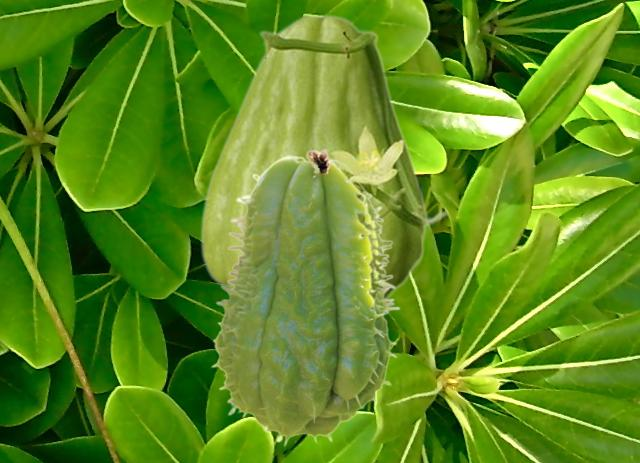sayote: (199, 14, 448, 297), (210, 148, 399, 446)
